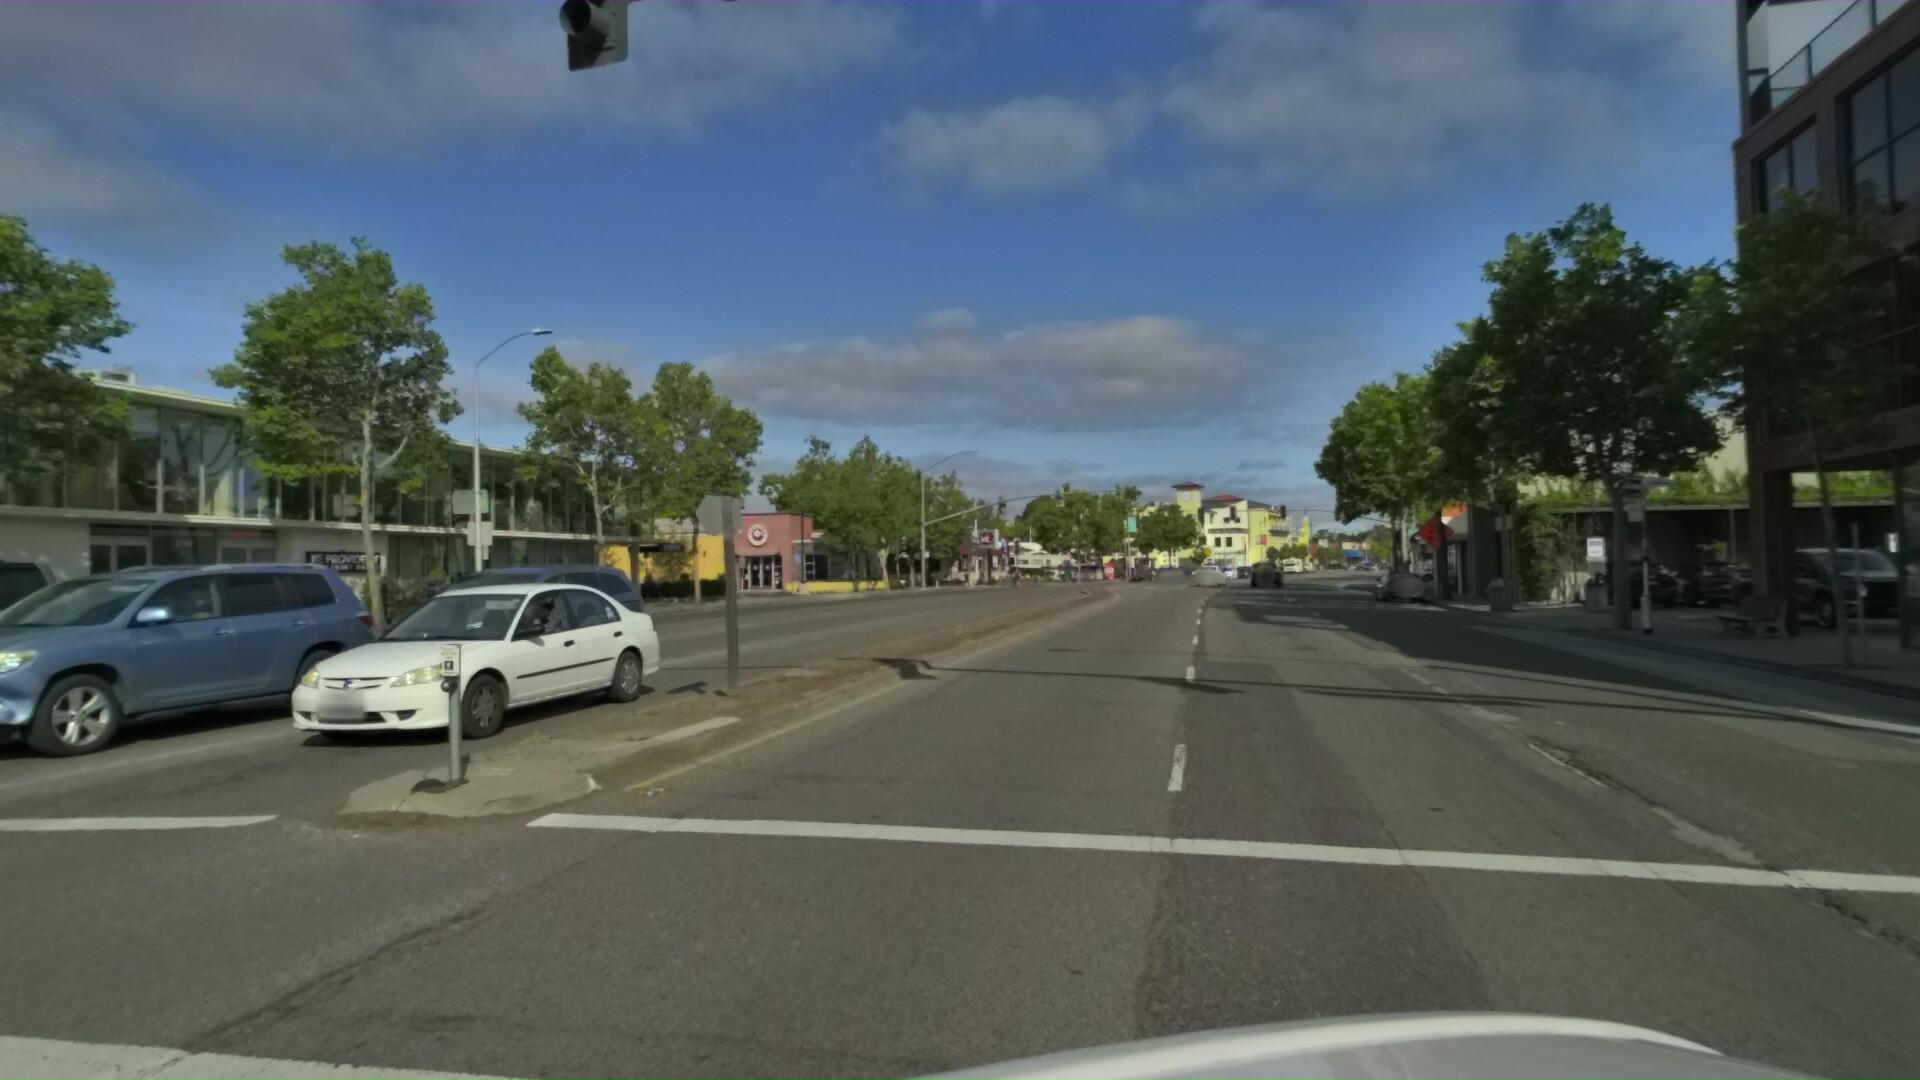car: (0, 541, 422, 790), (208, 571, 688, 767), (330, 554, 655, 692), (0, 535, 71, 806), (1731, 535, 1920, 625), (1654, 547, 1771, 603), (1585, 551, 1692, 603), (1385, 558, 1437, 596), (1414, 563, 1484, 587), (869, 572, 924, 592), (1259, 555, 1298, 582), (1205, 560, 1236, 585)
